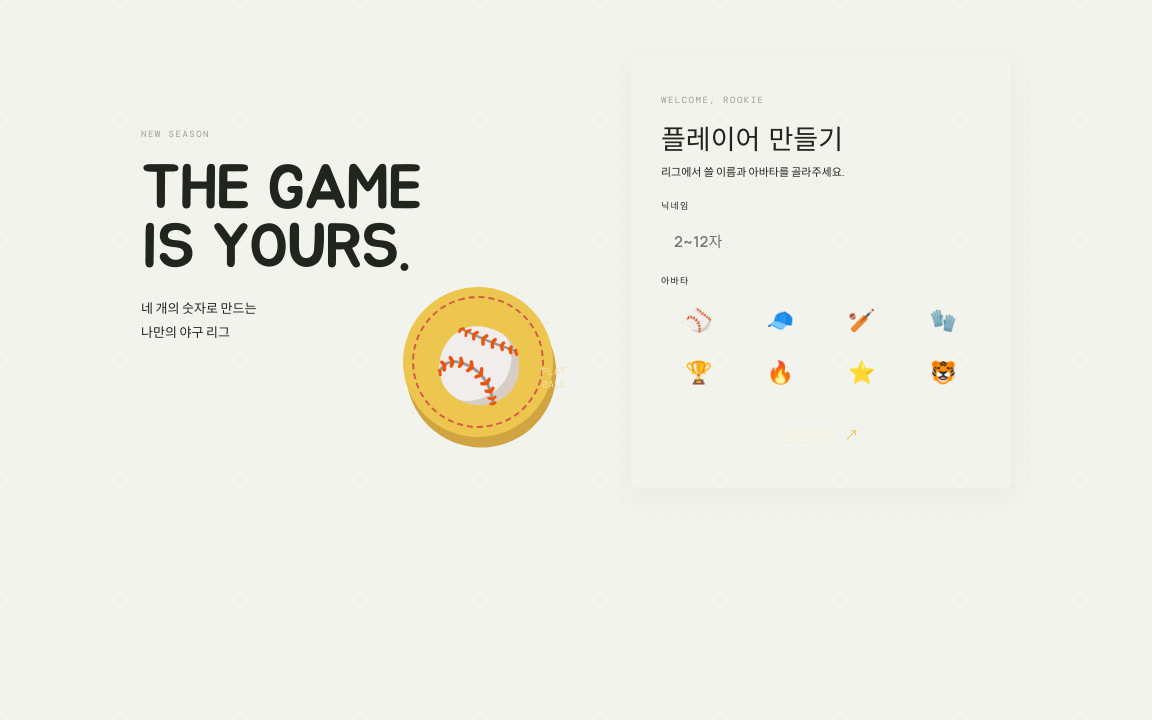
Scenario: PlayerSetupScreen › 닉네임이 짧으면 안내하고 저장하지 않는다
This screenshot has width=1152, height=720.
Step 1. Type "민" into the field labelled "닉네임" → [821, 241], box [661, 218, 981, 264]
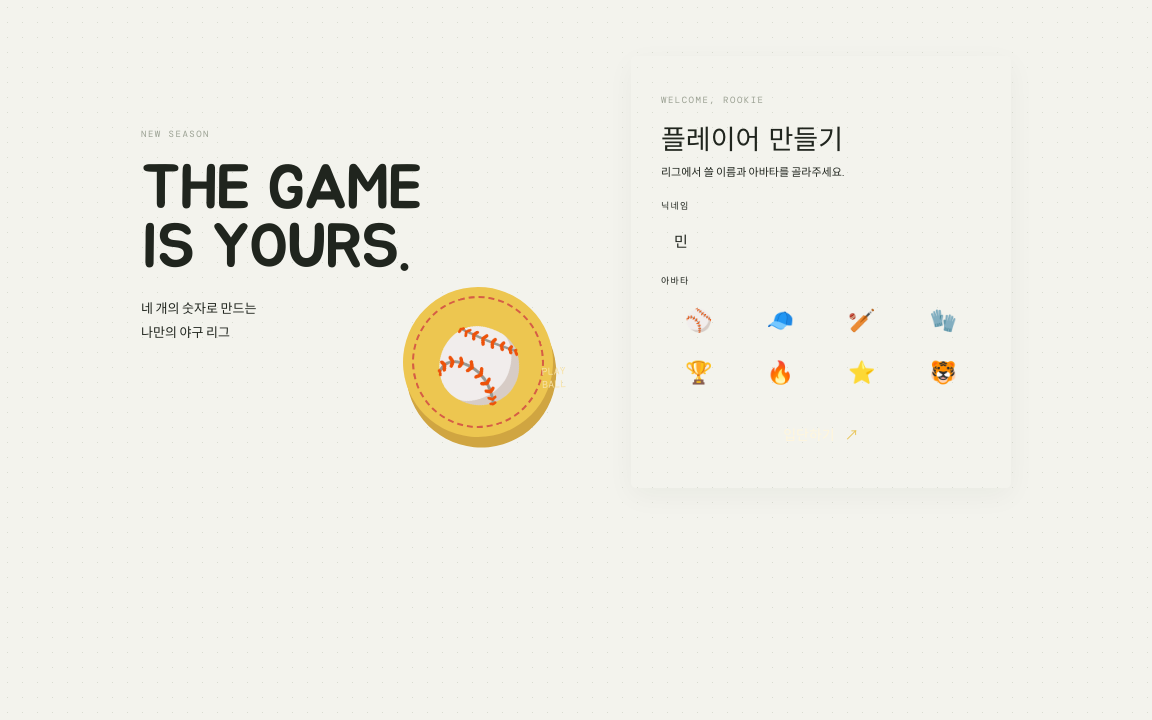
Step 2. Click the button "입단하기↗" → [821, 434], box [661, 411, 981, 458]
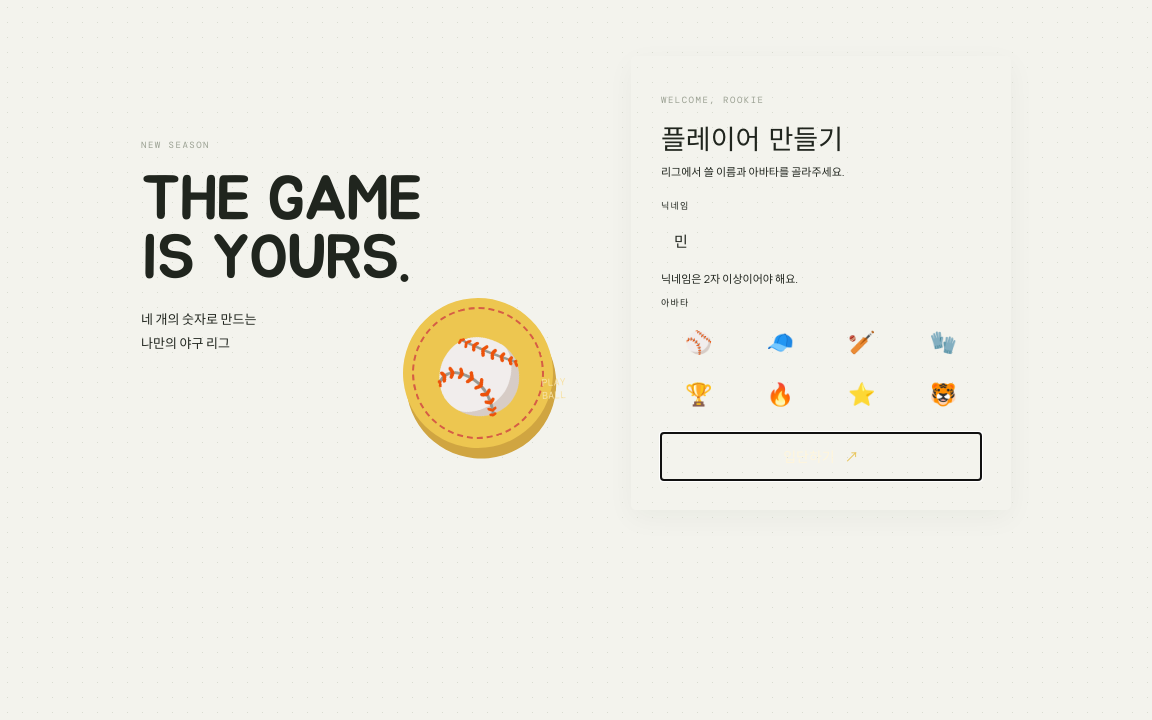
Now the text "닉네임은 2자 이상이어야 해요." is shown, box [661, 271, 798, 286]
